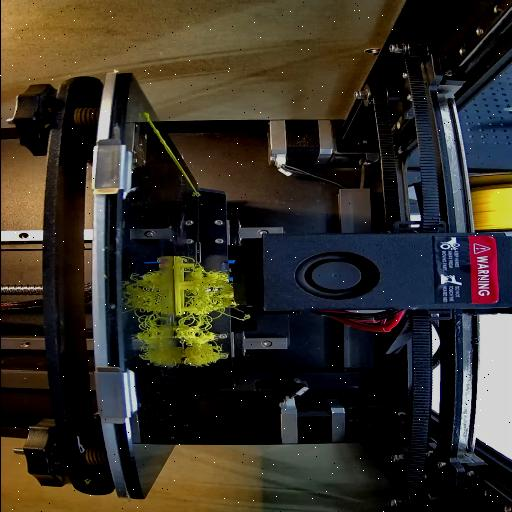spaghetti: (182, 266, 248, 362)
